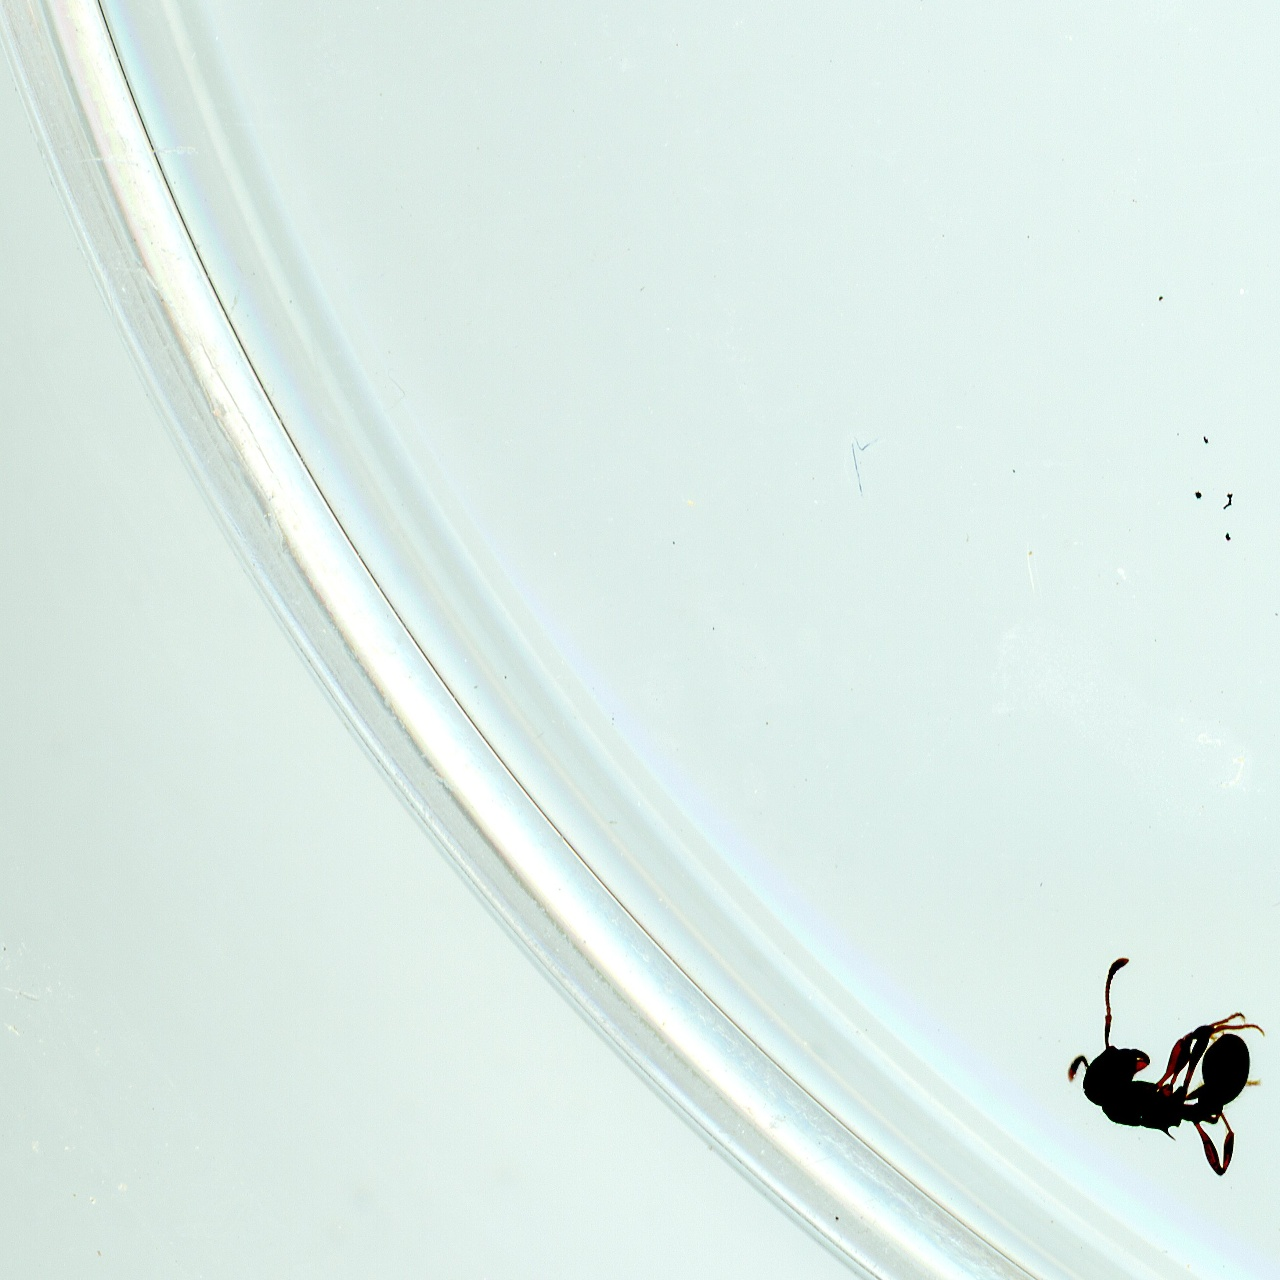arthropod: (1057, 952, 1280, 1183)
